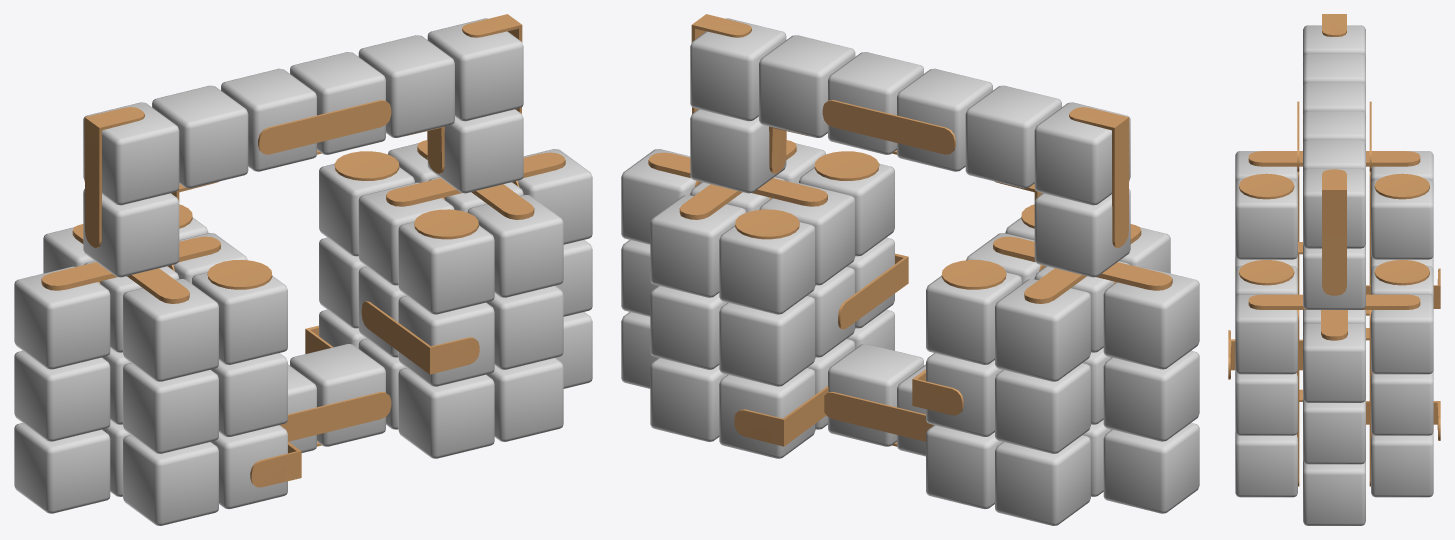
The model's file is level_136.fbx.
The picture shows the model from 3 angles, left to right: view 1: azimuth 30°, elevation 25°; view 2: azimuth 150°, elevation 25°; view 3: azimuth 270°, elevation 25°; orthographic projection. The views are drawn at different scales.
Parts seen in each view (by area): view 1: Cube_L4_5, Cube_L4_7, Cube_L1_4, Cube_L3_4, Cube_L5_7, Cube_L6_7, Cube_L5_5, Cube_L6_5, Cube_L7_3, Cube_L7_6, Cube_L7_2, Cube_L7_7 (+41 smaller); view 2: Cube_L4_1, Cube_L4_7, Cube_L1_8, Cube_L5_7, Cube_L2_8, Cube_L6_7, Cube_L5_1, Cube_L6_1, Cube_L7_3, Cube_L7_6, Cube_L7_2, Cube_L7_7 (+42 smaller); view 3: Cube_L1_2, Cube_L1_1, Cube_L1_5, Cube_L4_3, Cube_L4_6, Cube_L3_1, Cube_L3_5, Cube_L3_2, Cube_L2_2, Cube_L2_1, Cube_L2_5, Cube_L7_7 (+26 smaller).
Part boxes in pixels (x1=…): Cube_L4_5: x1=123, y1=279, x2=218, y2=381; Cube_L4_7: x1=14, y1=266, x2=110, y2=369; Cube_L1_4: x1=398, y1=222, x2=494, y2=314; Cube_L3_4: x1=398, y1=368, x2=494, y2=458; Cube_L5_7: x1=14, y1=350, x2=110, y2=441; Cube_L6_7: x1=14, y1=423, x2=110, y2=513; Cube_L5_5: x1=123, y1=363, x2=218, y2=453; Cube_L6_5: x1=123, y1=435, x2=218, y2=525; Cube_L7_3: x1=152, y1=85, x2=248, y2=188; Cube_L7_6: x1=358, y1=35, x2=454, y2=137; Cube_L7_2: x1=83, y1=102, x2=179, y2=205; Cube_L7_7: x1=427, y1=18, x2=523, y2=121; Cube_L4_1: x1=995, y1=279, x2=1090, y2=381; Cube_L4_7: x1=1103, y1=266, x2=1199, y2=369; Cube_L1_8: x1=719, y1=222, x2=815, y2=314; Cube_L5_7: x1=1103, y1=350, x2=1199, y2=441; Cube_L2_8: x1=719, y1=296, x2=815, y2=386; Cube_L6_7: x1=1103, y1=423, x2=1199, y2=513; Cube_L5_1: x1=995, y1=363, x2=1090, y2=453; Cube_L6_1: x1=995, y1=435, x2=1090, y2=525; Cube_L7_3: x1=965, y1=85, x2=1061, y2=188; Cube_L7_6: x1=759, y1=35, x2=855, y2=137; Cube_L7_2: x1=1034, y1=102, x2=1130, y2=205; Cube_L7_7: x1=690, y1=18, x2=786, y2=121; Cube_L1_2: x1=1303, y1=323, x2=1365, y2=402; Cube_L1_1: x1=1371, y1=294, x2=1433, y2=374; Cube_L1_5: x1=1235, y1=294, x2=1297, y2=374; Cube_L4_3: x1=1371, y1=179, x2=1433, y2=259; Cube_L4_6: x1=1235, y1=179, x2=1297, y2=259; Cube_L3_1: x1=1371, y1=432, x2=1433, y2=497; Cube_L3_5: x1=1235, y1=432, x2=1297, y2=497; Cube_L3_2: x1=1303, y1=460, x2=1365, y2=525; Cube_L2_2: x1=1303, y1=399, x2=1365, y2=464; Cube_L2_1: x1=1371, y1=371, x2=1433, y2=435; Cube_L2_5: x1=1235, y1=371, x2=1297, y2=435; Cube_L7_7: x1=1303, y1=168, x2=1365, y2=248.
Size of the model in its own units: 16.85 by 10.97 by 6.66.
